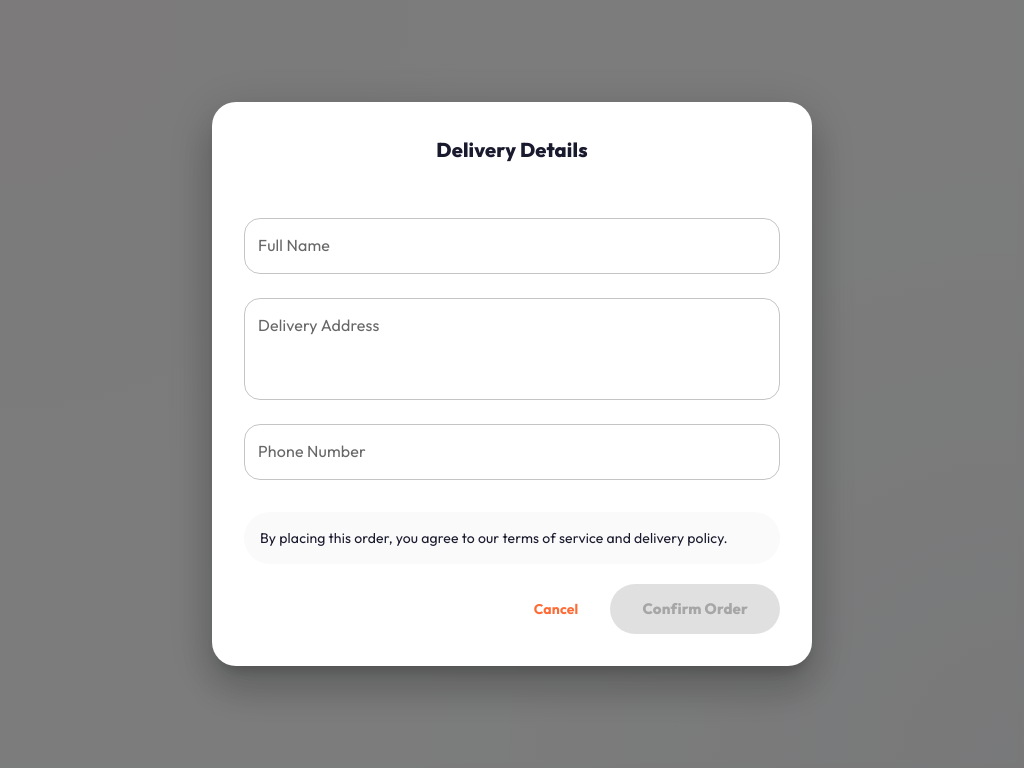
Scenario: CheckoutForm › shows phone error for invalid phone
The image size is (1024, 768).
Type "123" into the field labelled "Phone Number" at (512, 452), box [244, 424, 780, 480]
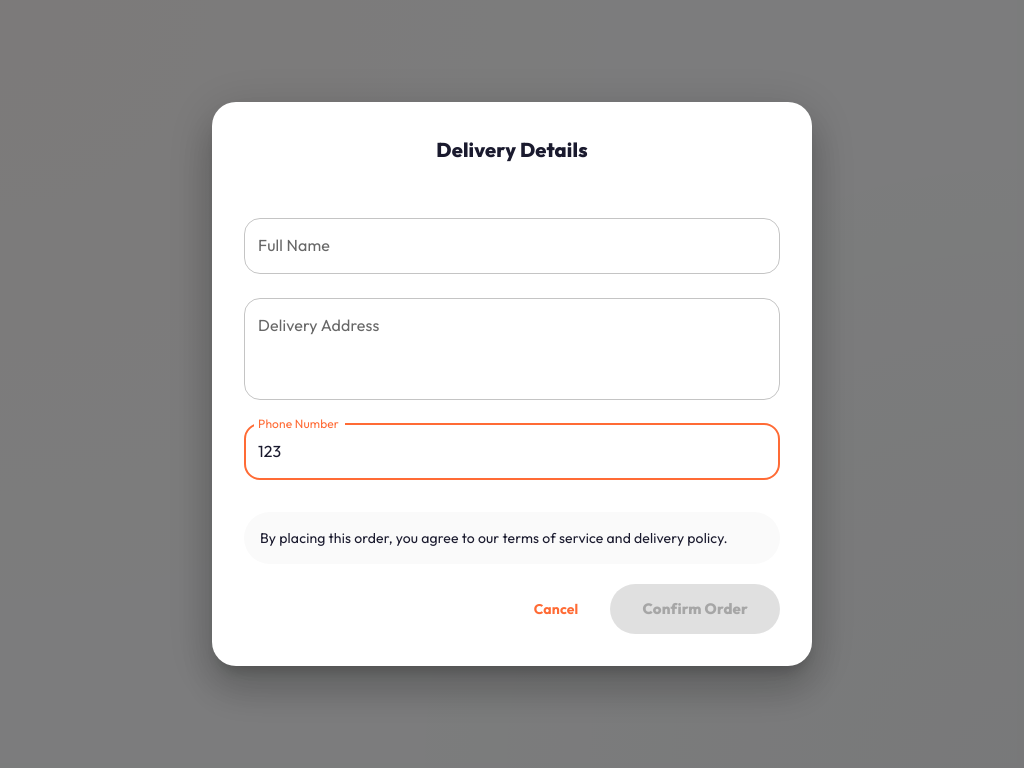
Leave the field labelled "Phone Number", box [244, 424, 780, 480]
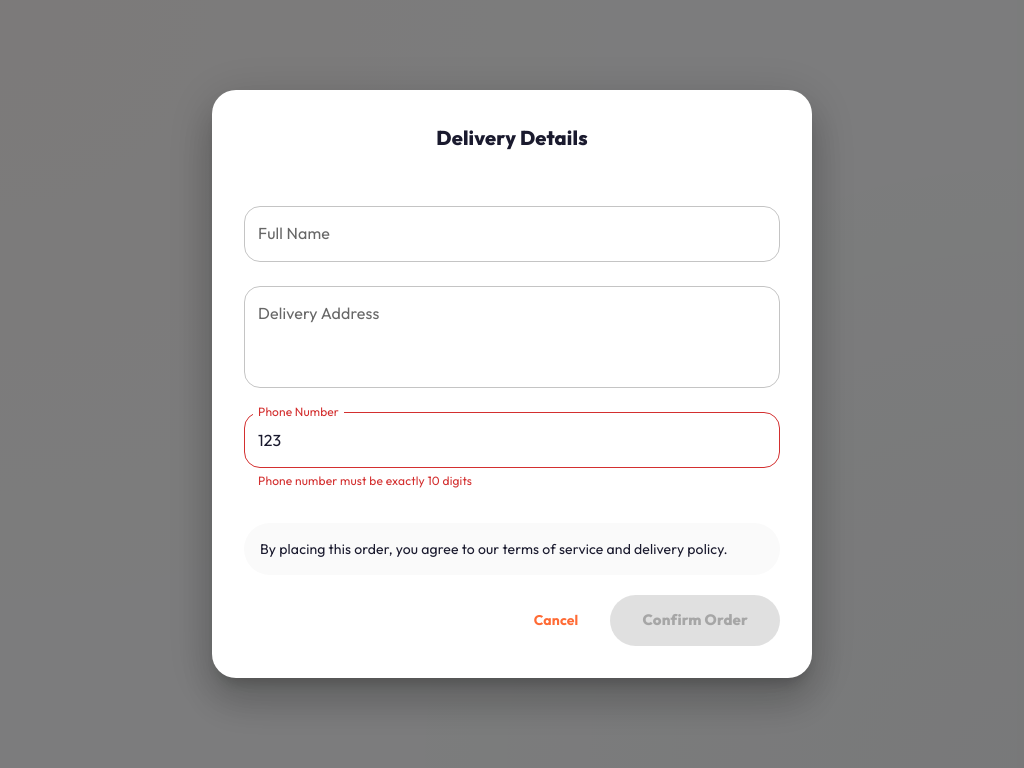
Check: the text "Phone number must be exactly 10 digits" is shown, box [258, 473, 472, 488]
